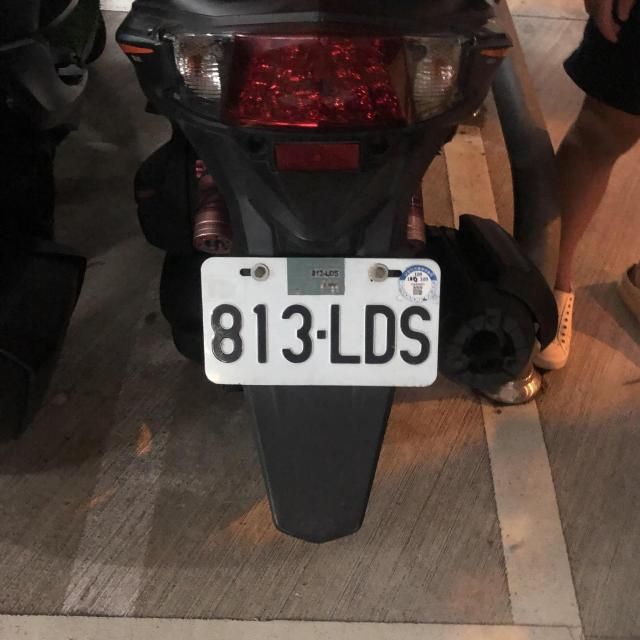W: (199, 252, 442, 386)
